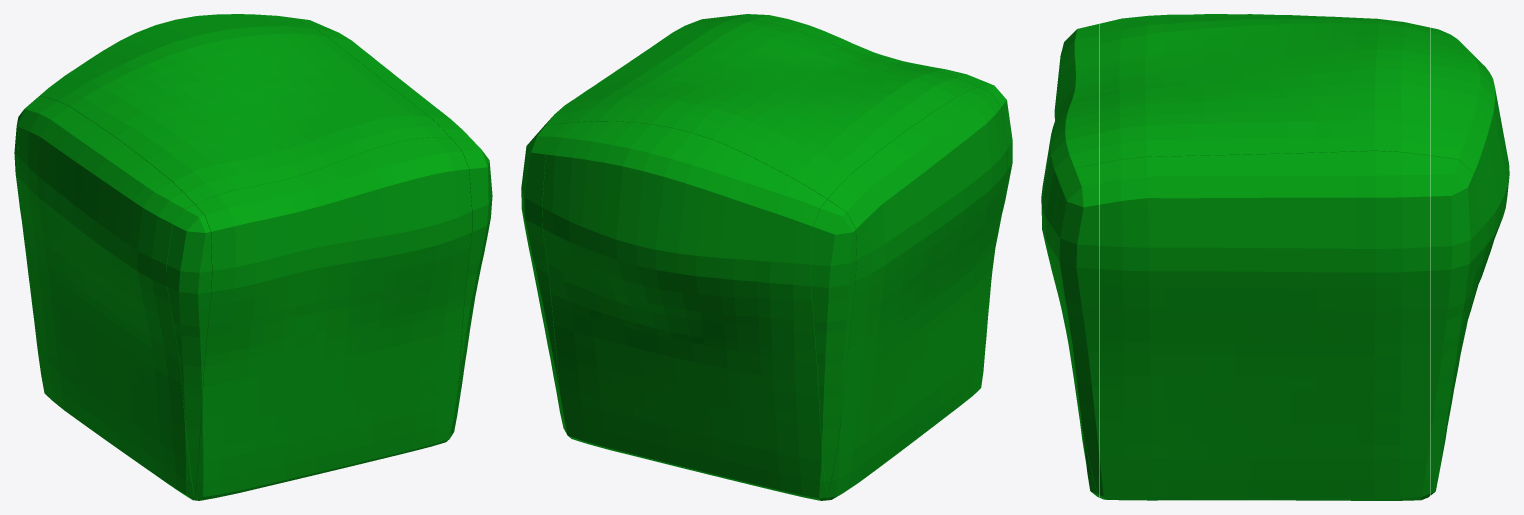
Rendered from 4by10beveledsubdivided.022.fbx.
3 renders of one model, left to right at view 1: azimuth 30°, elevation 25°; view 2: azimuth 150°, elevation 25°; view 3: azimuth 270°, elevation 25°, orthographic. The views are drawn at different scales.
Visible parts, largest first — view 1: 4by10beveledsubdivided.022; view 2: 4by10beveledsubdivided.022; view 3: 4by10beveledsubdivided.022.
Boxes of the visible parts, left/top/right/bottom form: 4by10beveledsubdivided.022: left=14, top=14, right=492, bottom=500; 4by10beveledsubdivided.022: left=521, top=14, right=1012, bottom=500; 4by10beveledsubdivided.022: left=1041, top=14, right=1509, bottom=500.
Size of the model in its own units: 260 by 250 by 283.
